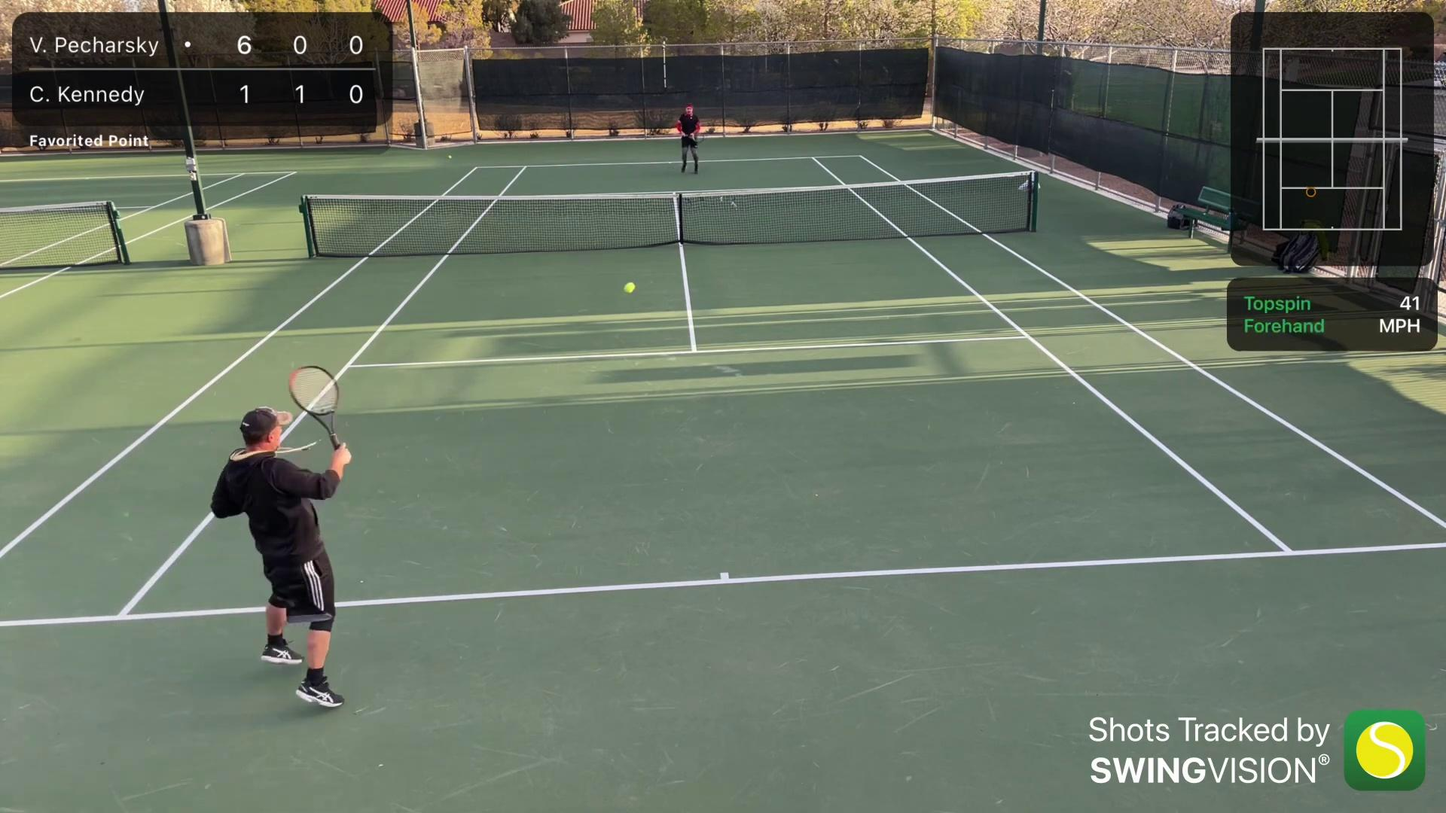ball: (621, 278, 639, 296), (446, 154, 456, 160)
